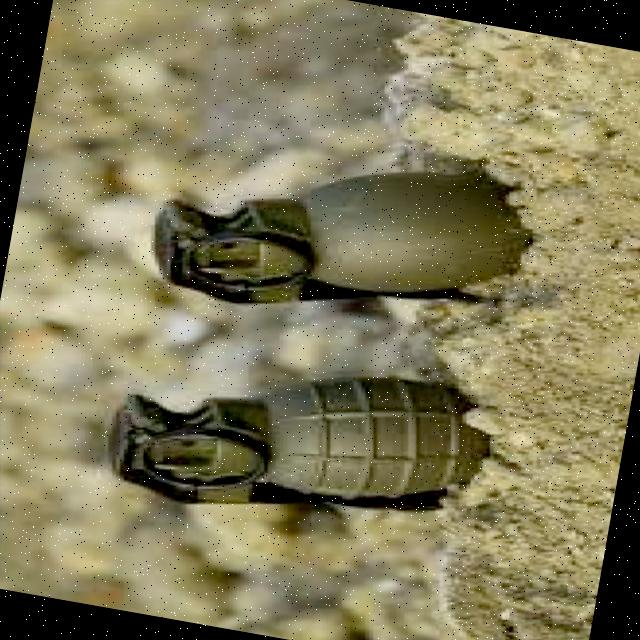grenade: (116, 100, 549, 371), (78, 308, 513, 574)
